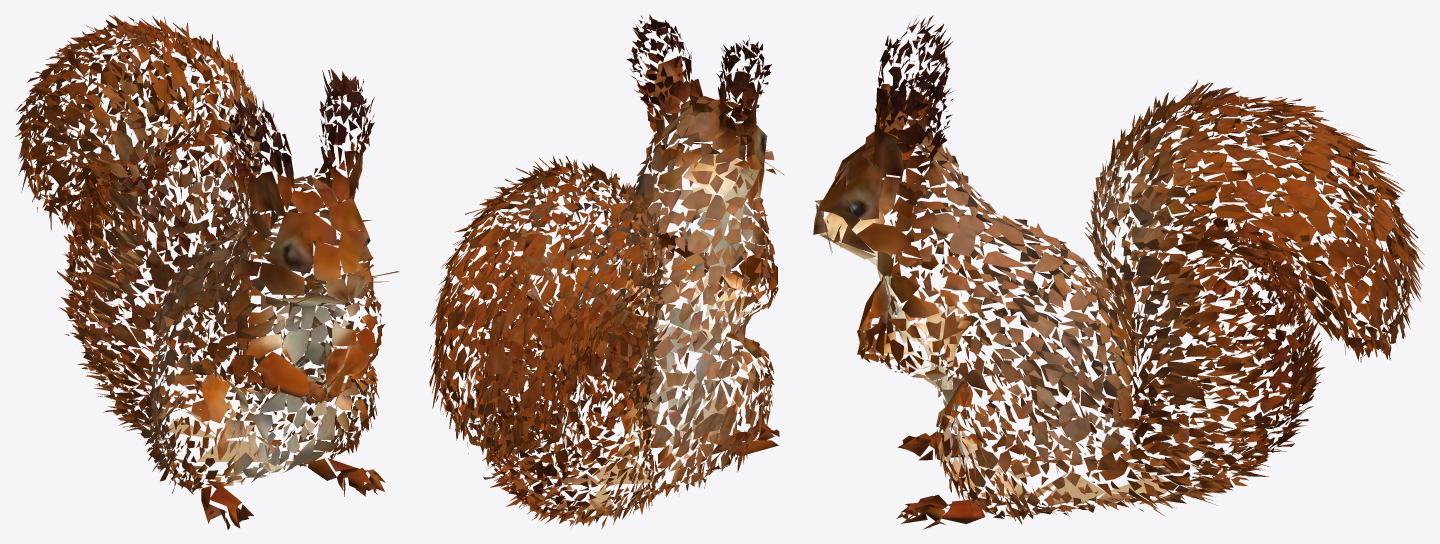
File: squirrel_forest.glb
3 renders of one model, left to right at view 1: azimuth 30°, elevation 25°; view 2: azimuth 150°, elevation 25°; view 3: azimuth 270°, elevation 25°, orthographic. The views are drawn at different scales.
Visible parts, largest first — view 1: Squirrel_Forest; view 2: Squirrel_Forest; view 3: Squirrel_Forest.
Boxes of the visible parts, x1,y1,x2,y2 form: Squirrel_Forest: (15, 15, 399, 529); Squirrel_Forest: (429, 14, 783, 529); Squirrel_Forest: (813, 15, 1424, 529).
Size of the model in its own units: 0.1531 by 0.2976 by 0.3677.
Materials: 1 (1 with a texture image).
